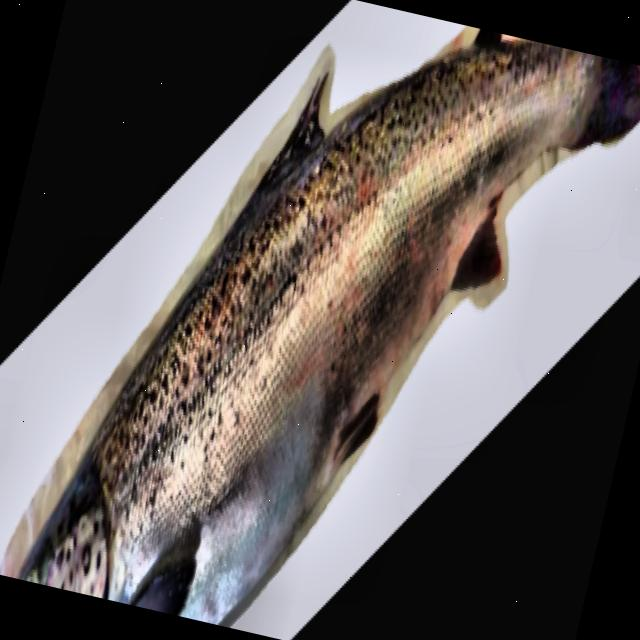mild_red: (97, 40, 601, 622)
